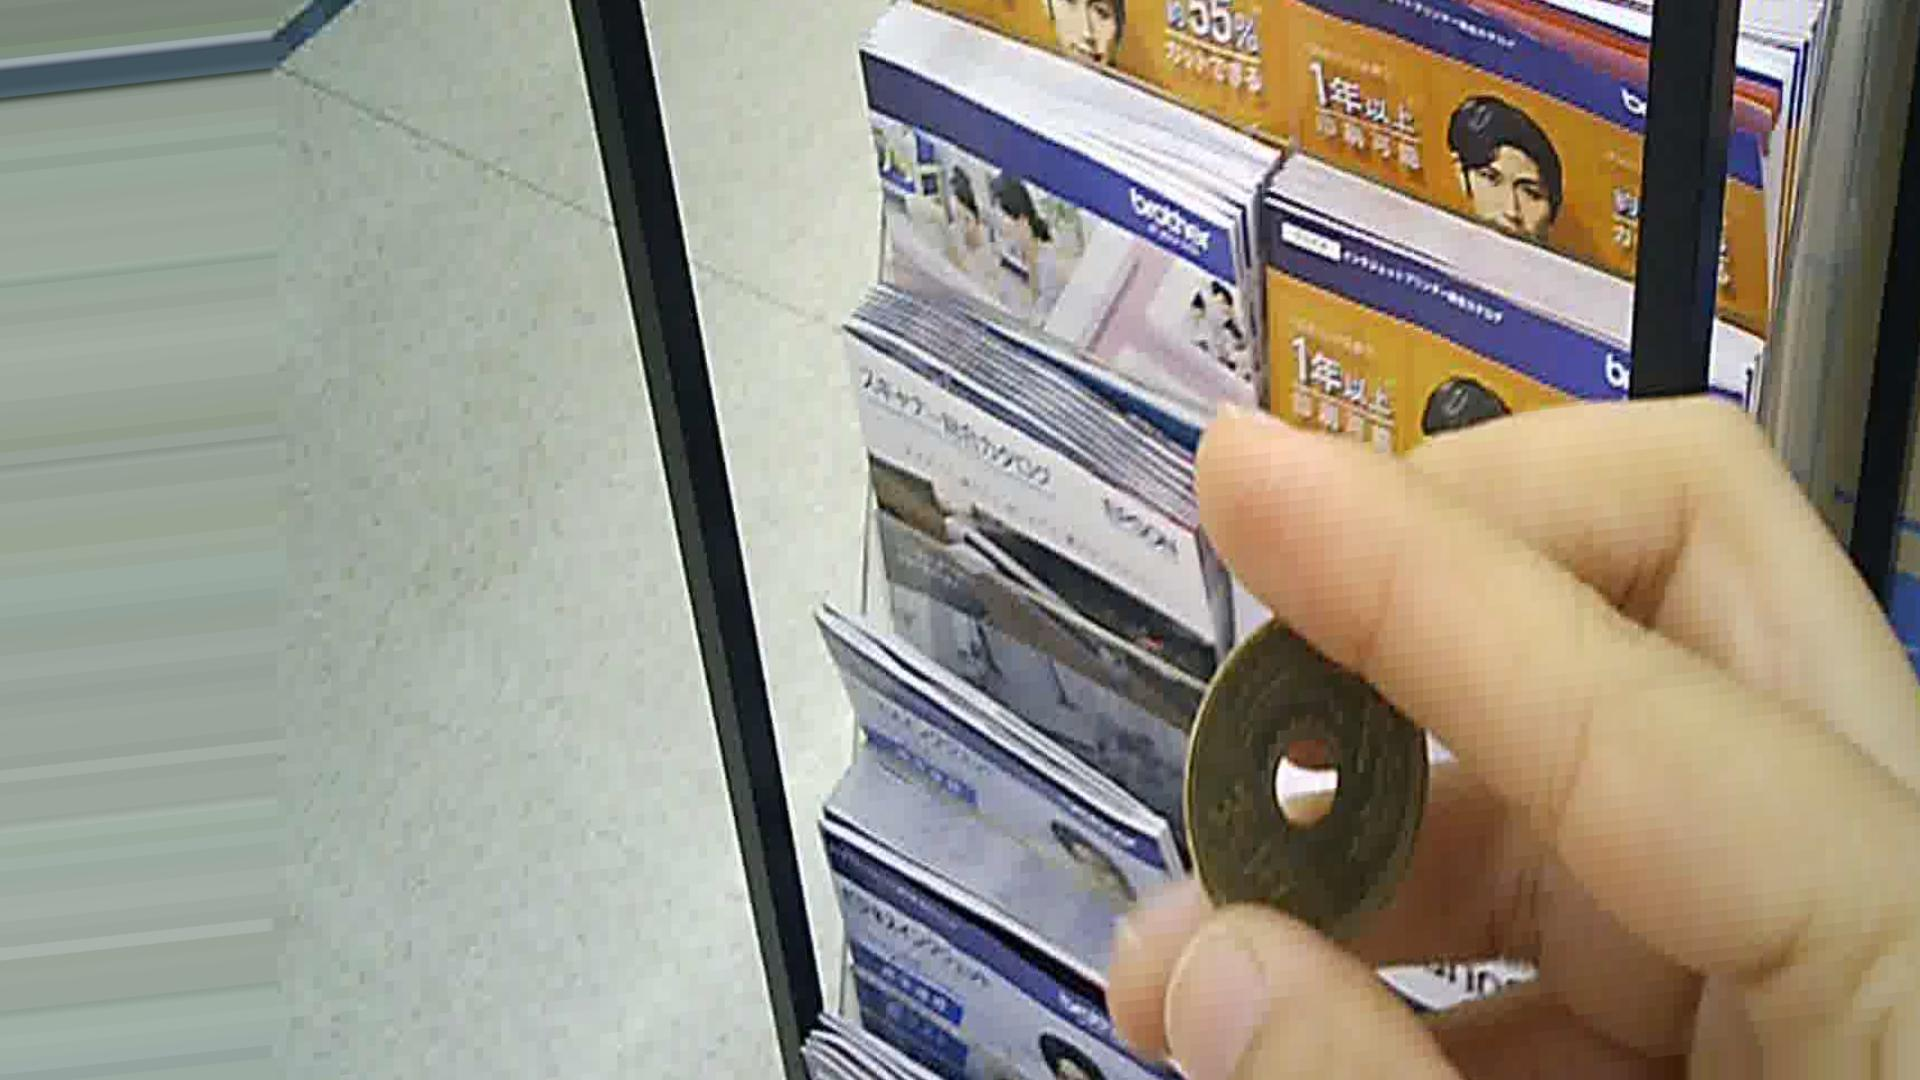5 Yen: (1193, 609, 1436, 953)
